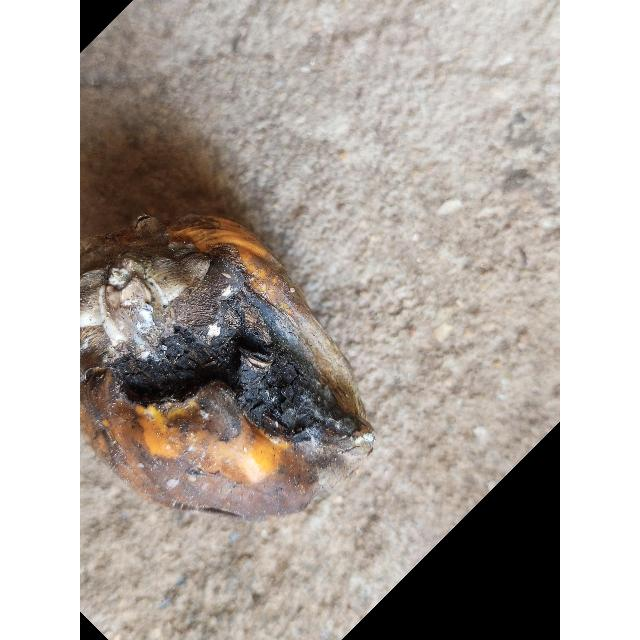damaged: (80, 225, 374, 521)
